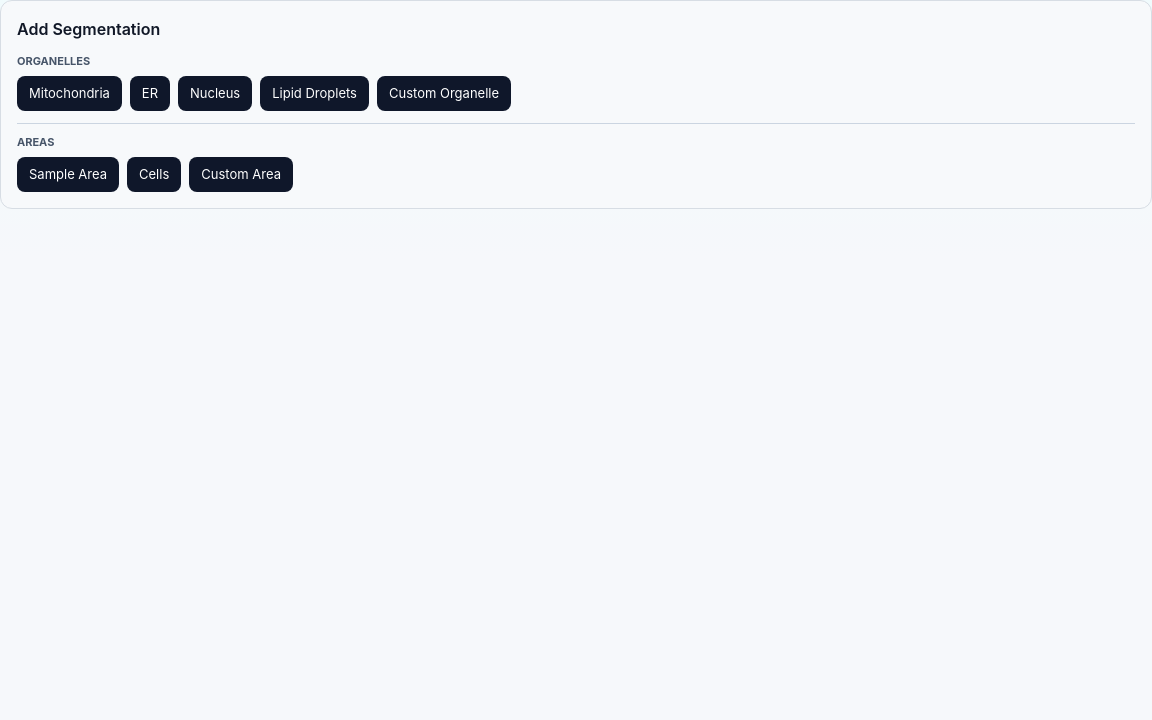
Test: SegmentationCreatePanel › preselects an installed model and explains immediate inference
Click the button "Mitochondria": (69, 93) [17,76,122,111]
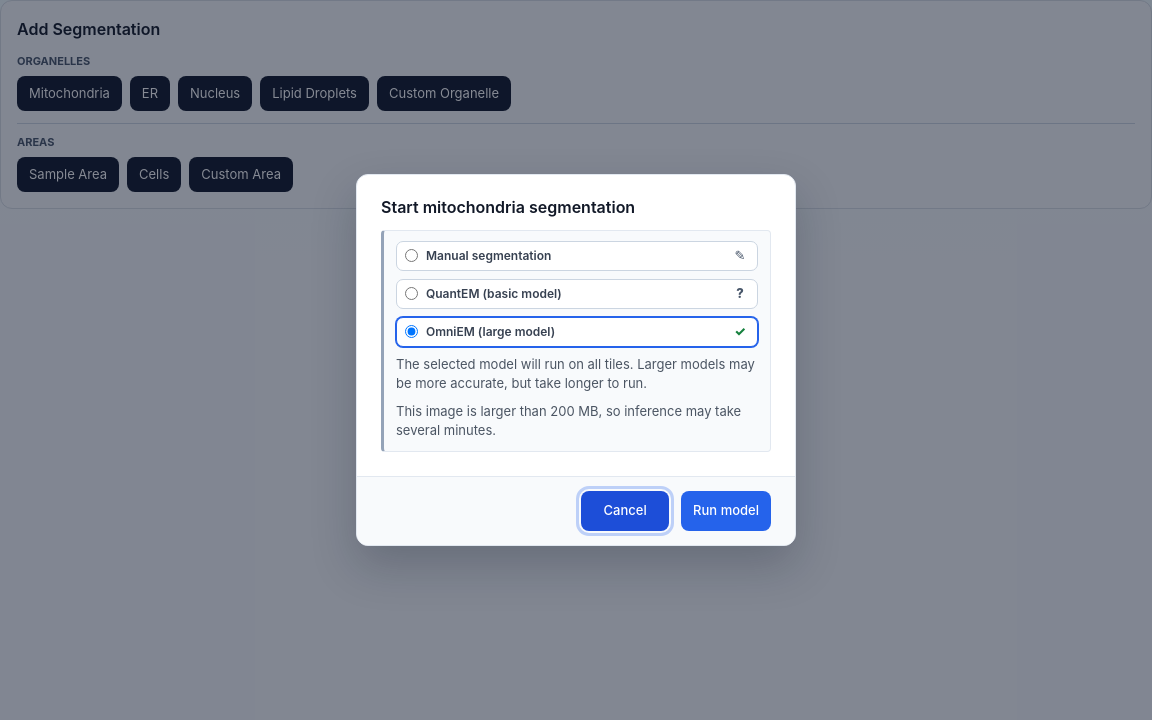
Now the radio button labelled "OmniEM (large model) ✓" is checked, box [405,325,418,338]
